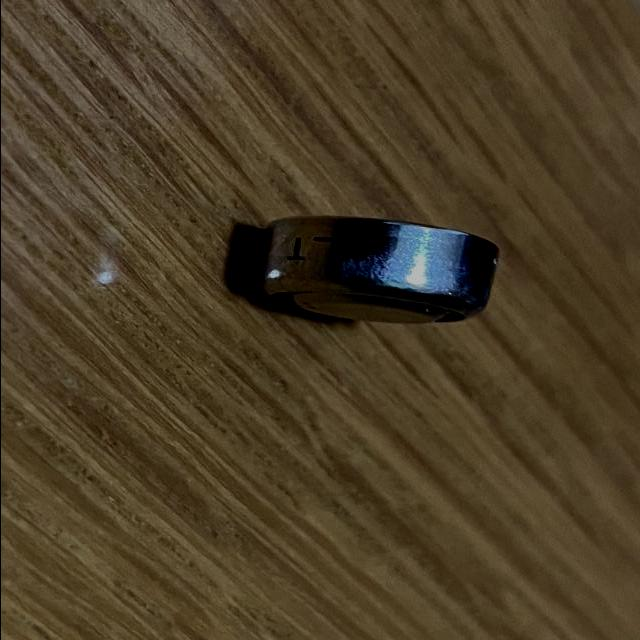COIN: (251, 214, 499, 326)
